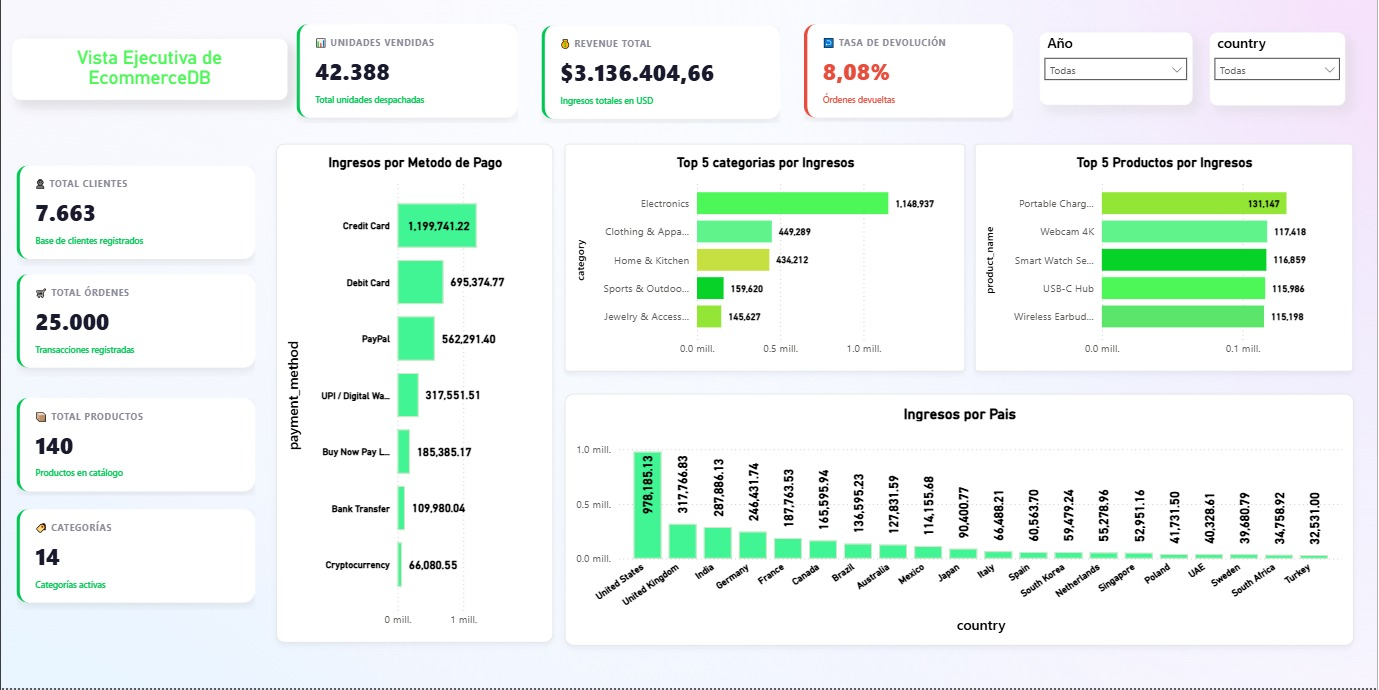

This screenshot's page, from the dashboard's own definition file:
{"tool":"powerbi","page":{"name":"Ejecutiva","canvas":[1600,800],"ordinal":0},"visuals":[{"type":"columnChart","title":"Ingresos por Pais","fields":{"Category":["dim_customers.country"],"Y":["Medidas.Revenue Total"]},"box":[655.3,457.2,917.4,292.7],"z":0},{"type":"barChart","title":"Top 5 Productos por Ingresos","fields":{"Category":["fact_orders.product_name"],"Y":["Medidas.Top 5 Productos por Revenue"]},"box":[1132.9,167.5,439.8,265],"z":1000},{"type":"barChart","title":"Top 5 categorias por Ingresos","fields":{"Category":["fact_orders.category"],"Y":["Medidas.Top 5 categorias por Revenue"]},"box":[655.3,167.5,466,265],"z":2000},{"type":"barChart","title":"Ingresos por Metodo de Pago","fields":{"Category":["fact_orders.payment_method"],"Y":["Medidas.Revenue Total"]},"box":[319.8,167.2,322.7,579.9],"z":3000},{"type":"htmlContent443BE3AD55E043BF878BED274D3A6855","fields":{"content":["HTML_KPIS.Card Total Clientes"]},"box":[13.1,187.5,287.8,126.5],"z":4000},{"type":"htmlContent443BE3AD55E043BF878BED274D3A6855","fields":{"content":["HTML_KPIS.Card Total Ordenes"]},"box":[13.1,314,287.8,129.4],"z":5000},{"type":"htmlContent443BE3AD55E043BF878BED274D3A6855","fields":{"content":["HTML_KPIS.Card Total Productos"]},"box":[13.1,457.9,287.8,123.5],"z":6000},{"type":"htmlContent443BE3AD55E043BF878BED274D3A6855","fields":{"content":["HTML_KPIS.Card Unidades Vendidas"]},"box":[338.7,23.3,267.4,125],"z":7000},{"type":"htmlContent443BE3AD55E043BF878BED274D3A6855","fields":{"content":["HTML_KPIS.Card Categorias"]},"box":[13.1,587.2,287.8,126.5],"z":8000},{"type":"htmlContent443BE3AD55E043BF878BED274D3A6855","fields":{"content":["HTML_KPIS.Card Revenue Total"]},"box":[623.5,24.7,287.8,123.5],"z":9000},{"type":"htmlContent443BE3AD55E043BF878BED274D3A6855","fields":{"content":["HTML_KPIS.Card Tasa Devolucion"]},"box":[928.8,23.3,252.9,123.5],"z":10000},{"type":"slicer","fields":{"Values":["dim_calendario.date.Variación.Jerarquía de fechas.Año"]},"box":[1207.9,37.8,177.3,84.3],"z":11000},{"type":"slicer","fields":{"Values":["dim_customers.country"]},"box":[1405.2,37.9,157.3,84.5],"z":12000},{"type":"textbox","box":[13.1,45.1,319.8,71.2],"z":13000}]}

Visuals, with their boxes in screenshot pixels (x1, y1, x2, y2), scaled from the page's 1600x800 canvas onto the 1379x690 screenshot:
"Ingresos por Pais" columnChart: pyautogui.locateOnScreen(565, 394, 1355, 647)
"Top 5 Productos por Ingresos" barChart: pyautogui.locateOnScreen(976, 144, 1355, 373)
"Top 5 categorias por Ingresos" barChart: pyautogui.locateOnScreen(565, 144, 966, 373)
"Ingresos por Metodo de Pago" barChart: pyautogui.locateOnScreen(276, 144, 554, 644)
htmlContent443BE3AD55E043BF878BED274D3A6855 - HTML_KPIS.Card Total Clientes: pyautogui.locateOnScreen(11, 162, 259, 271)
htmlContent443BE3AD55E043BF878BED274D3A6855 - HTML_KPIS.Card Total Ordenes: pyautogui.locateOnScreen(11, 271, 259, 382)
htmlContent443BE3AD55E043BF878BED274D3A6855 - HTML_KPIS.Card Total Productos: pyautogui.locateOnScreen(11, 395, 259, 501)
htmlContent443BE3AD55E043BF878BED274D3A6855 - HTML_KPIS.Card Unidades Vendidas: pyautogui.locateOnScreen(292, 20, 522, 128)
htmlContent443BE3AD55E043BF878BED274D3A6855 - HTML_KPIS.Card Categorias: pyautogui.locateOnScreen(11, 506, 259, 616)
htmlContent443BE3AD55E043BF878BED274D3A6855 - HTML_KPIS.Card Revenue Total: pyautogui.locateOnScreen(537, 21, 785, 128)
htmlContent443BE3AD55E043BF878BED274D3A6855 - HTML_KPIS.Card Tasa Devolucion: pyautogui.locateOnScreen(801, 20, 1018, 127)
slicer - dim_calendario.date.Variación.Jerarquía de fechas.Año: pyautogui.locateOnScreen(1041, 33, 1194, 105)
slicer - dim_customers.country: pyautogui.locateOnScreen(1211, 33, 1347, 106)
textbox: pyautogui.locateOnScreen(11, 39, 287, 100)
